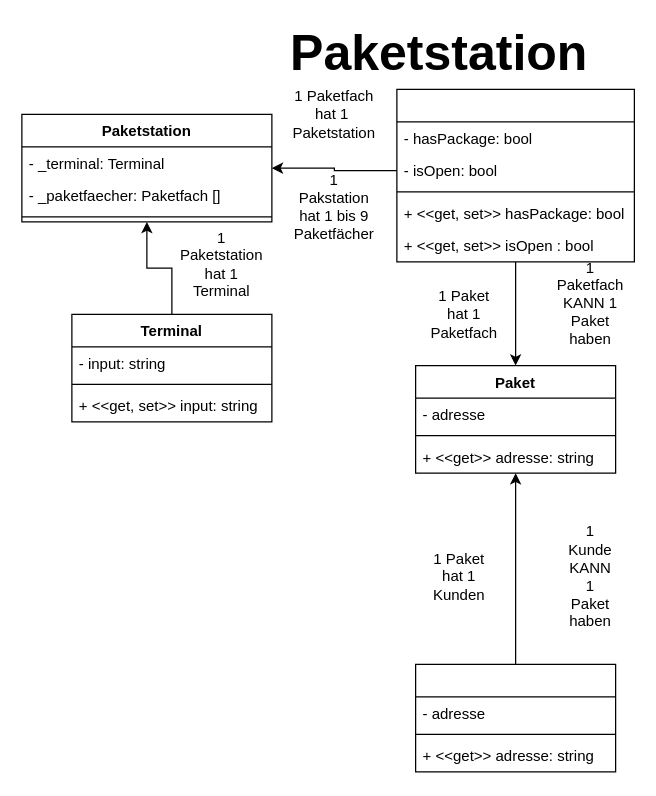
The diagram is 656 pixels wide and 796 high, and some of its shapes have lost their labels. Each missing label, with the box of its shape:
Kunden: (414, 663, 616, 772)
Paketfach: (396, 88, 634, 262)
